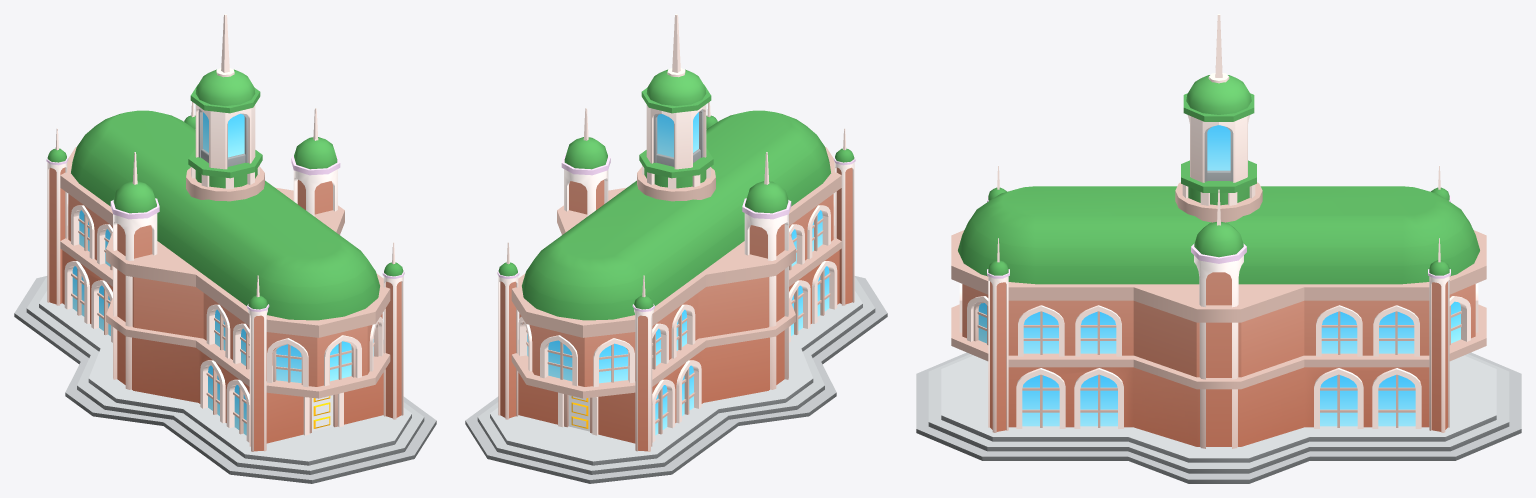
File: Building_Temple_07.glb
3 renders of one model, left to right at view 1: azimuth 30°, elevation 25°; view 2: azimuth 150°, elevation 25°; view 3: azimuth 270°, elevation 25°, orthographic. The views are drawn at different scales.
Parts seen in each view (by area): view 1: Building_Temple_07; view 2: Building_Temple_07; view 3: Building_Temple_07.
Part boxes in pixels (bbox=[...]): Building_Temple_07: bbox=[14, 14, 436, 483]; Building_Temple_07: bbox=[465, 14, 887, 483]; Building_Temple_07: bbox=[916, 14, 1521, 483].
Size of the model in its own units: 17.96 by 20.87 by 29.29.
Materials: 1 (1 with a texture image).
